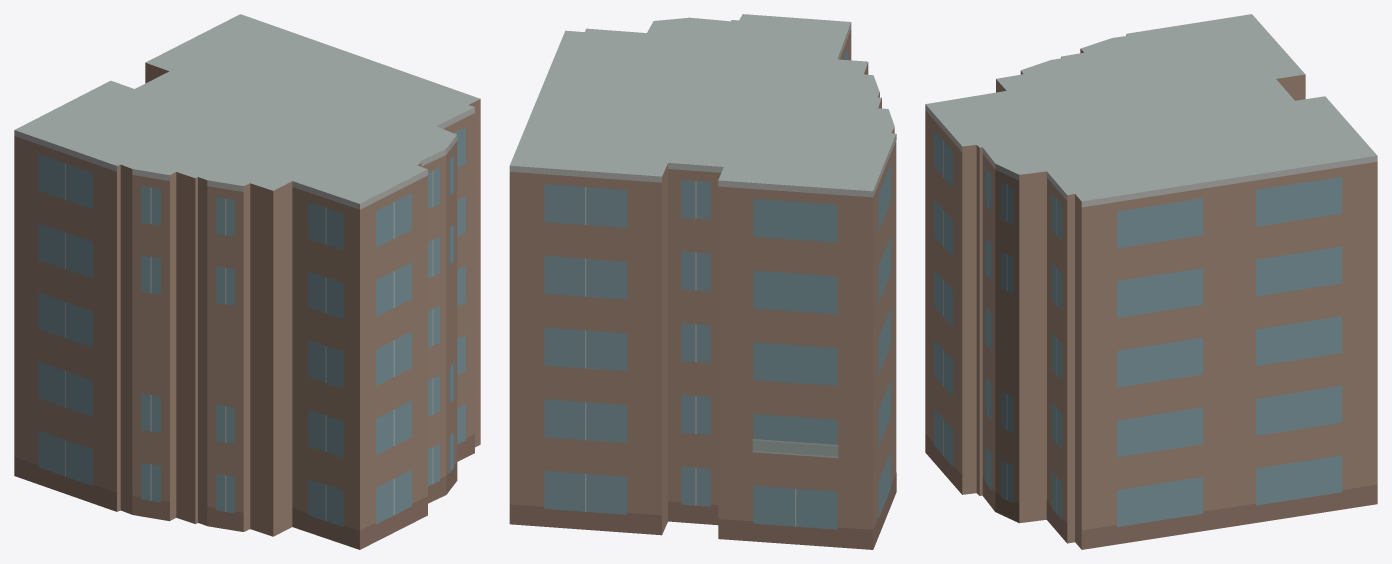
The model's file is survey-upis-32839641.glb.
3 renders of one model, left to right at view 1: azimuth 30°, elevation 25°; view 2: azimuth 150°, elevation 25°; view 3: azimuth 270°, elevation 25°, orthographic. The views are drawn at different scales.
Visible parts, largest first — view 1: survey-upis-32839641.tmp; view 2: survey-upis-32839641.tmp; view 3: survey-upis-32839641.tmp.
Part boxes in pixels (x1,y1,x2,y2): survey-upis-32839641.tmp: [14, 14, 480, 549]; survey-upis-32839641.tmp: [509, 14, 896, 549]; survey-upis-32839641.tmp: [925, 14, 1377, 549].
Bounding box in the file's own units: 16.64 × 14.4 × 16.95.
